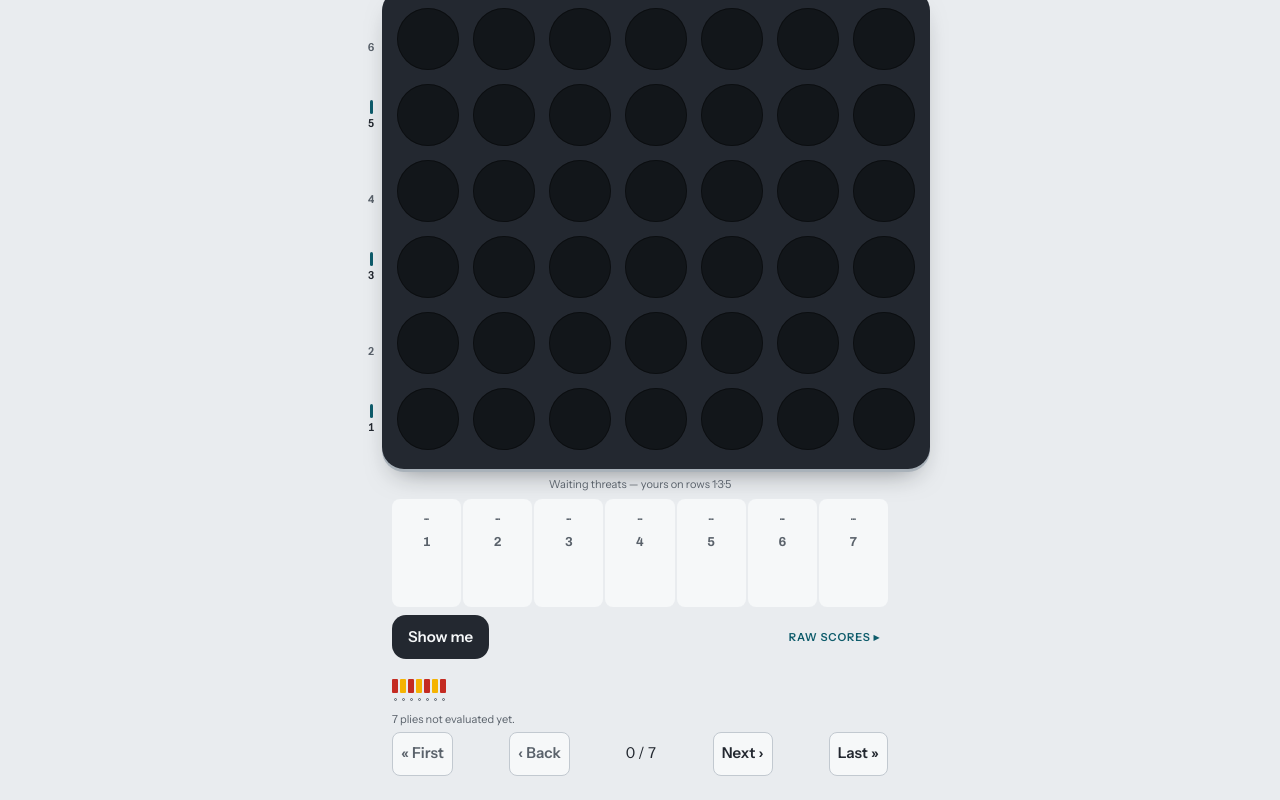
Scenario: ReviewStepper › stepping forward with Next advances the ply and the context line
(page scrolled)
Click the button with aria-label "Forward one move" at {"x": 743, "y": 754}, box [713,732,773,776]
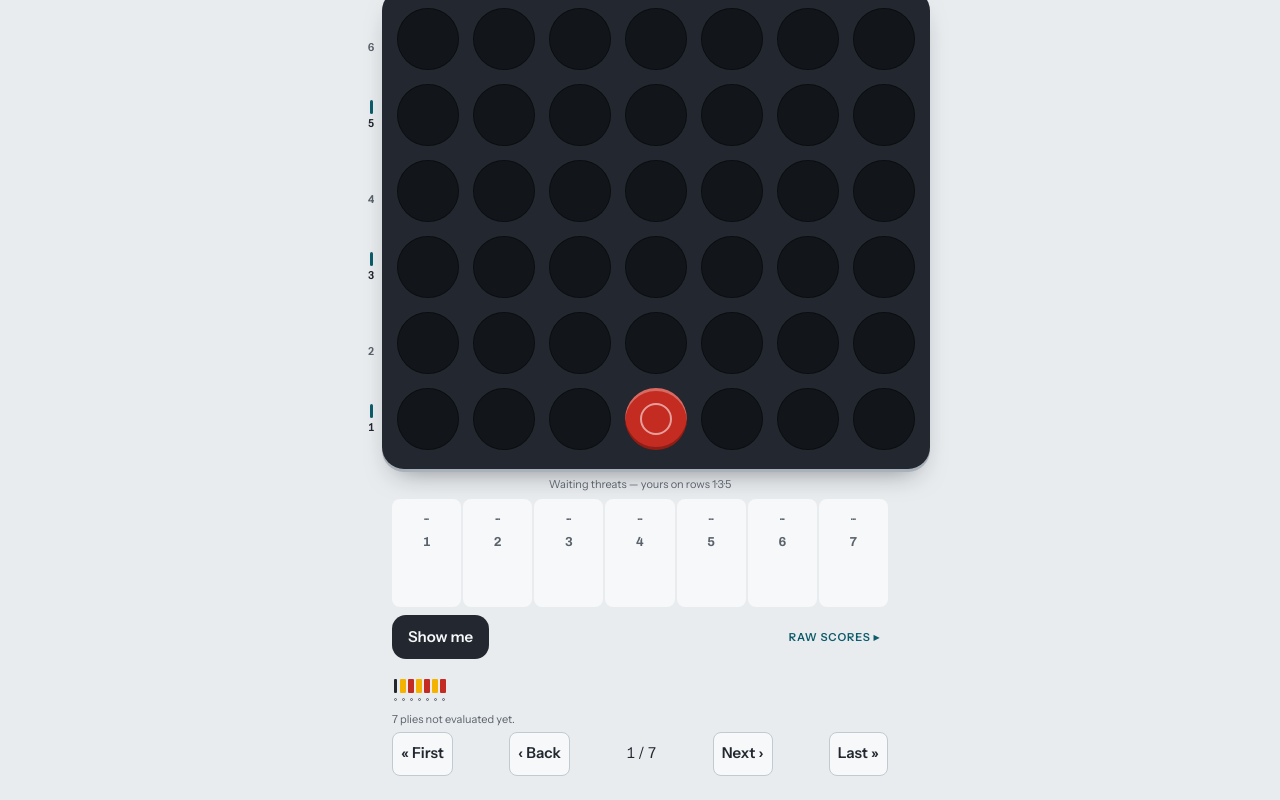
expect the text "1 / 7" is shown: met, box [626,742,657,765]
